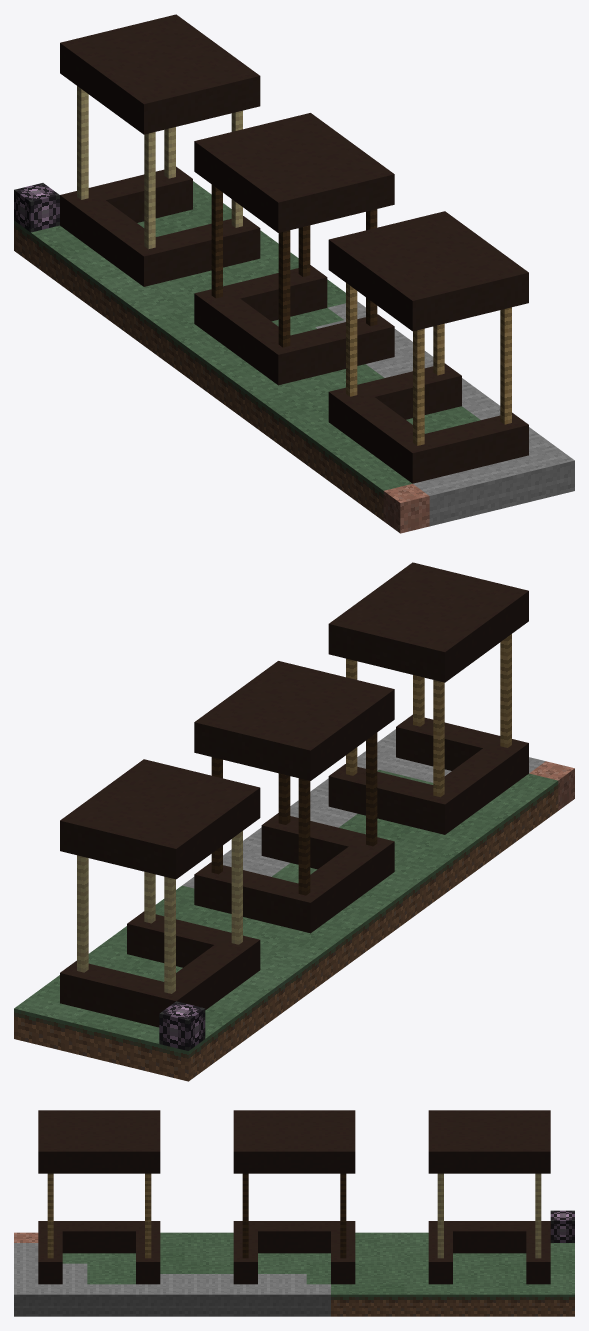
The model's file is mercato.glb.
The picture shows the model from 3 angles, top to bottom: view 1: azimuth 30°, elevation 25°; view 2: azimuth 150°, elevation 25°; view 3: azimuth 270°, elevation 25°; orthographic projection. The views are drawn at different scales.
Parts seen in each view (by area): view 1: node_5, node_2, node_4, node_6, node_1, node_3; view 2: node_5, node_2, node_6, node_4, node_3, node_1; view 3: node_5, node_2, node_6, node_4, node_3, node_1.
Part boxes in pixels (<box>): node_5: <box>81,110,500,496</box>; node_2: <box>110,51,494,306</box>; node_4: <box>350,307,574,533</box>; node_6: <box>14,86,231,299</box>; node_1: <box>379,248,528,331</box>; node_3: <box>60,14,226,109</box>; node_5: <box>88,658,524,1031</box>; node_2: <box>110,587,495,842</box>; node_6: <box>14,855,255,1081</box>; node_4: <box>357,634,574,834</box>; node_3: <box>60,784,226,879</box>; node_1: <box>379,562,528,645</box>; node_5: <box>87,1173,477,1316</box>; node_2: <box>87,1110,477,1173</box>; node_6: <box>477,1173,574,1316</box>; node_4: <box>14,1173,87,1316</box>; node_3: <box>477,1110,550,1173</box>; node_1: <box>38,1110,87,1173</box>.
Size of the model in its own units: 6 by 7 by 23.
Materials: 1 (1 with a texture image).
